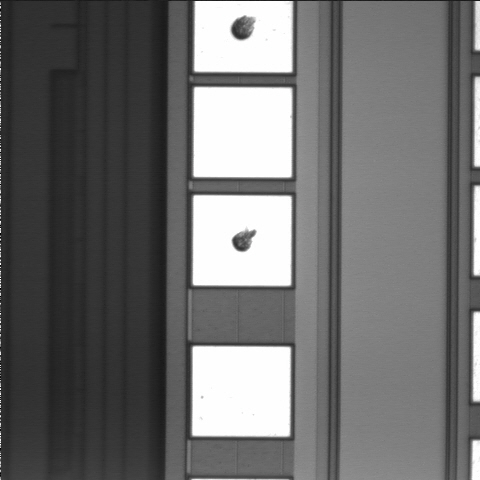pad: (193, 195, 291, 286), (192, 346, 291, 436), (194, 87, 292, 177)
